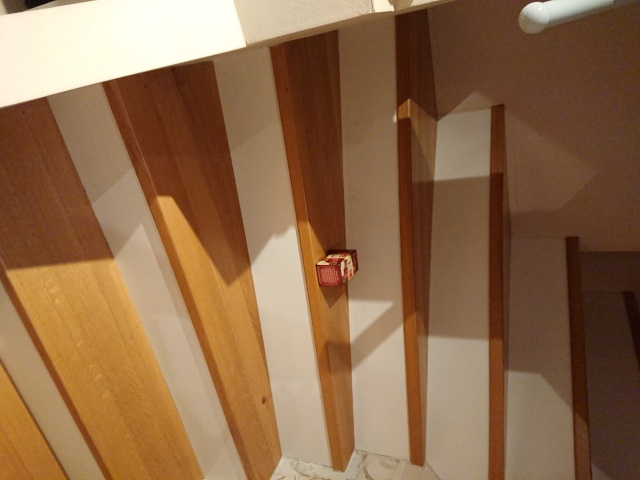Franck Apple Cinnamon Tea 60g: (313, 246, 361, 289)
